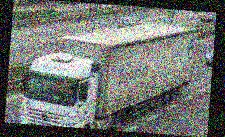truck: (19, 14, 197, 136)
